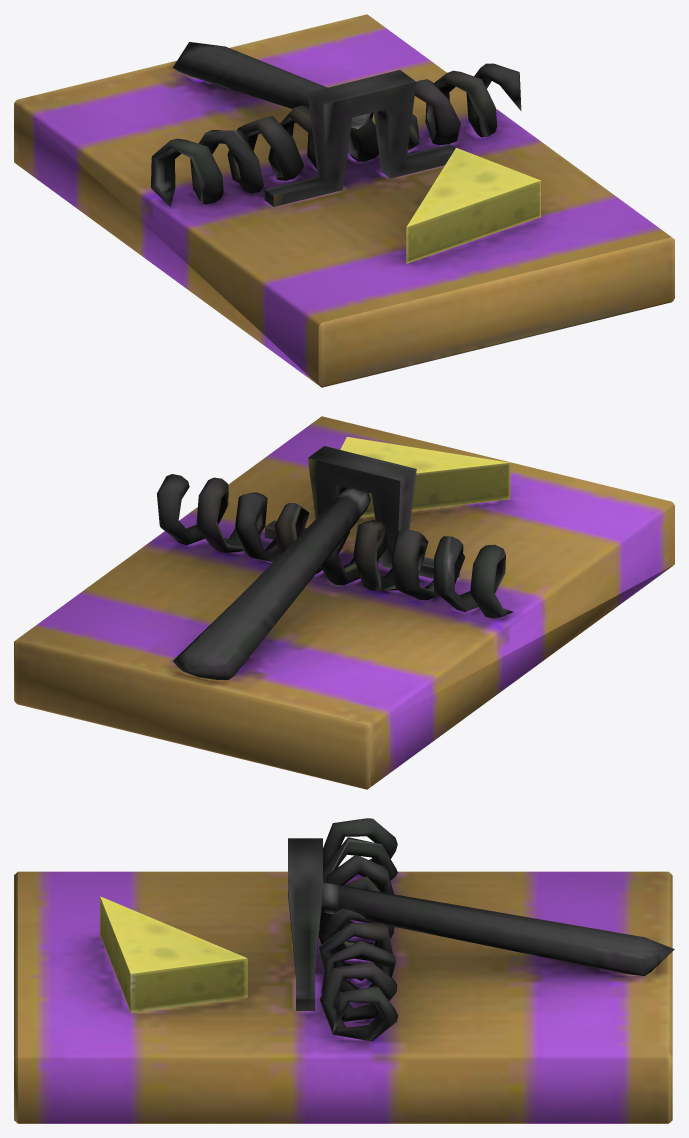
Rendered from Mousemallow Attack Effect.obj.
3 renders of one model, top to bottom at view 1: azimuth 30°, elevation 25°; view 2: azimuth 150°, elevation 25°; view 3: azimuth 270°, elevation 25°, orthographic. The views are drawn at different scales.
Visible parts, largest first — view 1: Mesh_0006; view 2: Mesh_0006; view 3: Mesh_0006.
Part boxes in pixels (<box>): Mesh_0006: <box>14,14,674,387</box>; Mesh_0006: <box>14,416,674,789</box>; Mesh_0006: <box>14,818,674,1123</box>.
Bounding box in the file's own units: 1.1 × 0.4685 × 1.65.
Materials: 1 (1 with a texture image).
